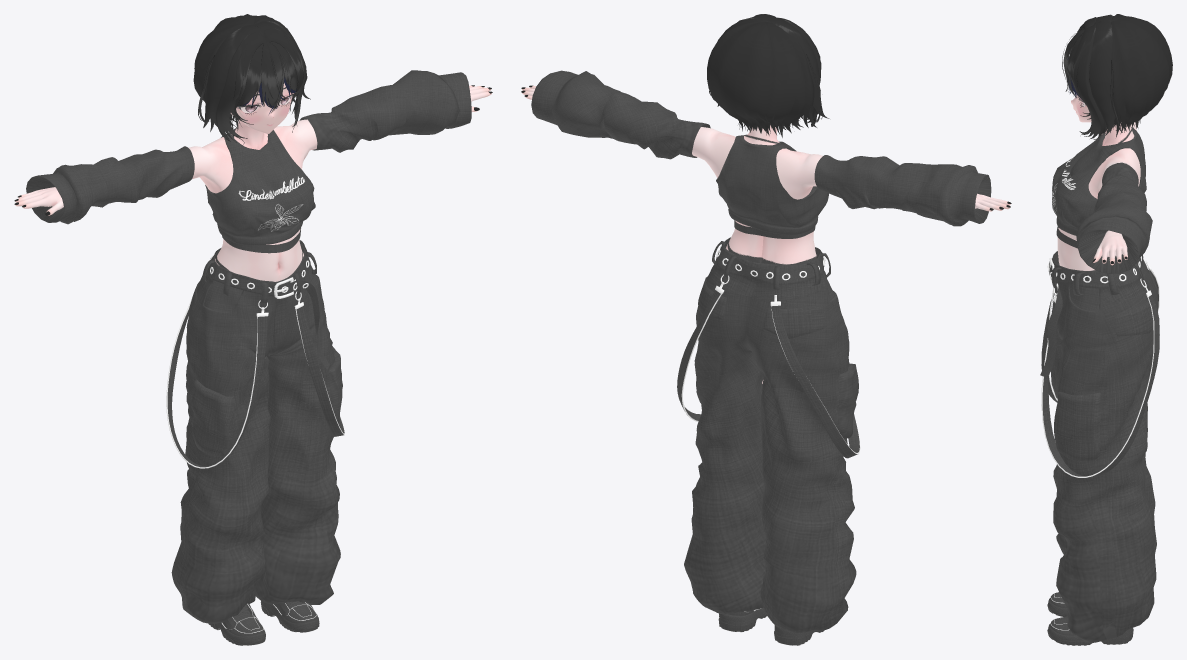
The model's file is bkAvatarModel0.glb.
3 renders of one model, left to right at view 1: azimuth 30°, elevation 25°; view 2: azimuth 150°, elevation 25°; view 3: azimuth 270°, elevation 25°, orthographic. The views are drawn at different scales.
Visible parts, largest first — view 1: Pants, Sleeves, Hair, Shirt, Body_2, Body; view 2: Pants, Sleeves, Hair, Shirt, Body_2; view 3: Pants, Hair, Sleeves, Shirt, Body_2, Body.
Part boxes in pixels (left/top/right/bottom): Pants: left=166, top=240, right=344, bottom=645; Sleeves: left=26, top=70, right=471, bottom=224; Hair: left=193, top=14, right=310, bottom=144; Shirt: left=205, top=128, right=315, bottom=253; Body_2: left=14, top=85, right=492, bottom=281; Body: left=230, top=77, right=297, bottom=133; Pants: left=677, top=237, right=860, bottom=645; Sleeves: left=531, top=70, right=991, bottom=226; Hair: left=707, top=14, right=829, bottom=137; Shirt: left=716, top=134, right=828, bottom=238; Body_2: left=521, top=85, right=1011, bottom=383; Pants: left=1040, top=251, right=1159, bottom=645; Hair: left=1062, top=14, right=1172, bottom=139; Sleeves: left=1076, top=122, right=1152, bottom=273; Shirt: left=1052, top=127, right=1146, bottom=248; Body_2: left=1057, top=122, right=1140, bottom=271; Body: left=1067, top=58, right=1091, bottom=122.
Bounding box in the file's own units: 1.3 × 1.55 × 0.3077.
Materials: 4 (4 with a texture image).
